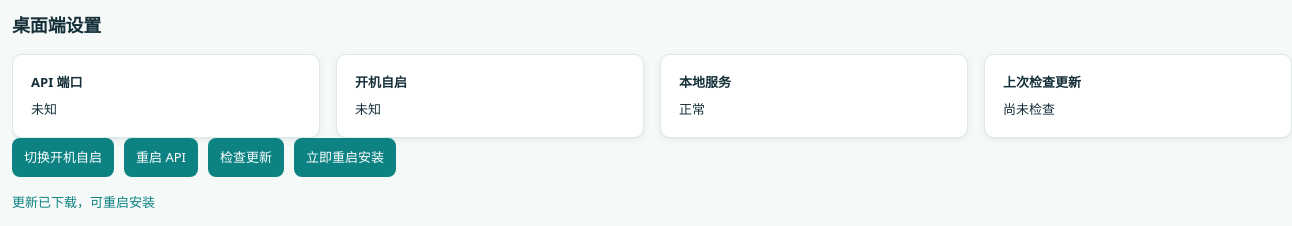
Test case: DesktopSettingsPage › handles rejected settings loads and install fallbacks
Check: the text "未知" is shown 2 times, box [31,100,57,118]; [355,100,381,118]
Click the button "立即重启安装" at x=345, y=157, box [294,138,396,177]
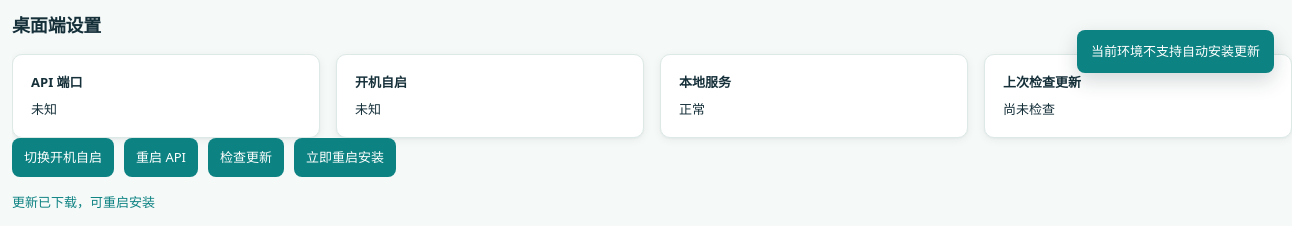
Check: the text "当前环境不支持自动安装更新" is shown, box [1077,30,1274,73]
